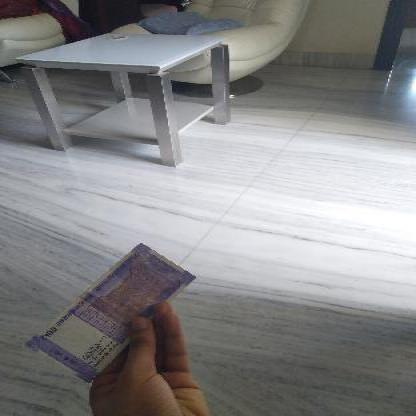New100Back: (22, 240, 197, 382)
